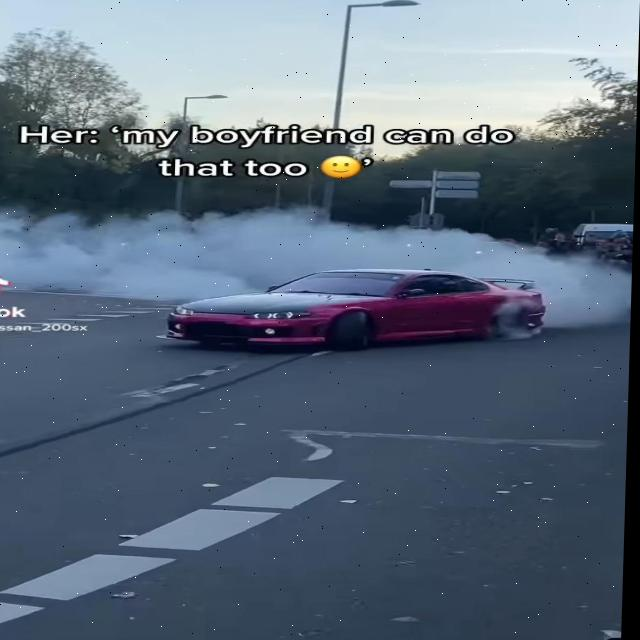vehicle: (162, 269, 558, 350)
